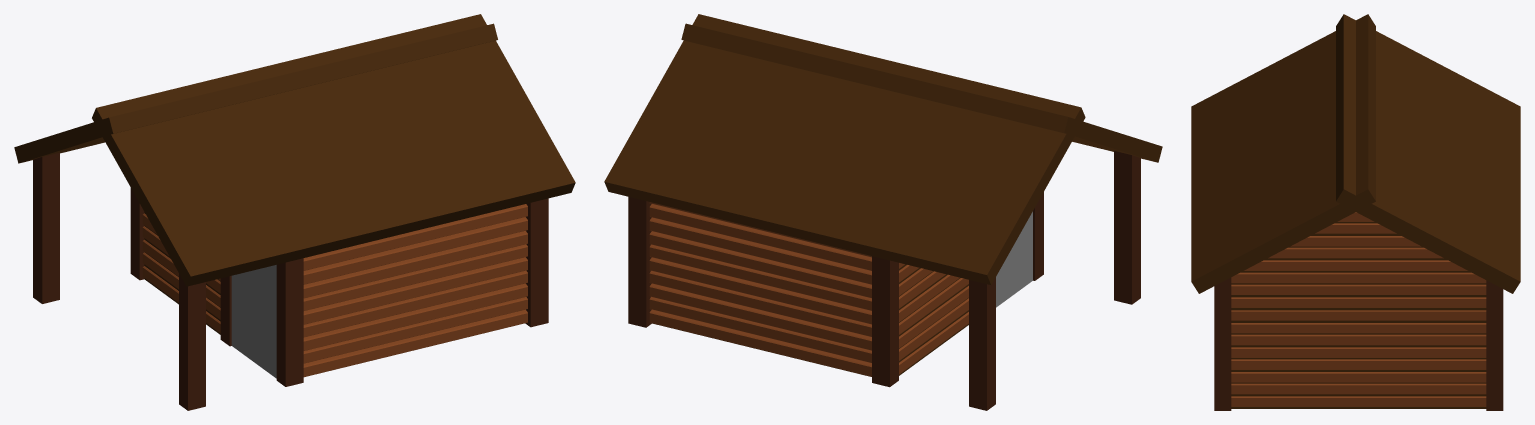
The model's file is Cabin.fbx.
3 views of the same model, side by side, from view 1: azimuth 30°, elevation 25°; view 2: azimuth 150°, elevation 25°; view 3: azimuth 270°, elevation 25° (orthographic). The views are drawn at different scales.
Parts seen in each view (by area): view 1: Box008, Box055, Box054, Box056; view 2: Box008, Box055, Box054, Box056; view 3: Box008, Box055, Box054.
Part boxes in pixels (box(x1,y1,x2,y2)): Box008: box(14, 14, 575, 334); Box055: box(142, 204, 527, 377); Box054: box(33, 152, 548, 410); Box056: box(231, 265, 276, 378); Box008: box(604, 14, 1162, 376); Box055: box(649, 202, 968, 376); Box054: box(628, 151, 1140, 410); Box056: box(996, 211, 1032, 307); Box008: box(1191, 14, 1520, 408); Box055: box(1231, 212, 1486, 406); Box054: box(1214, 277, 1503, 410).
Size of the model in its own units: 140 by 85.39 by 112.
